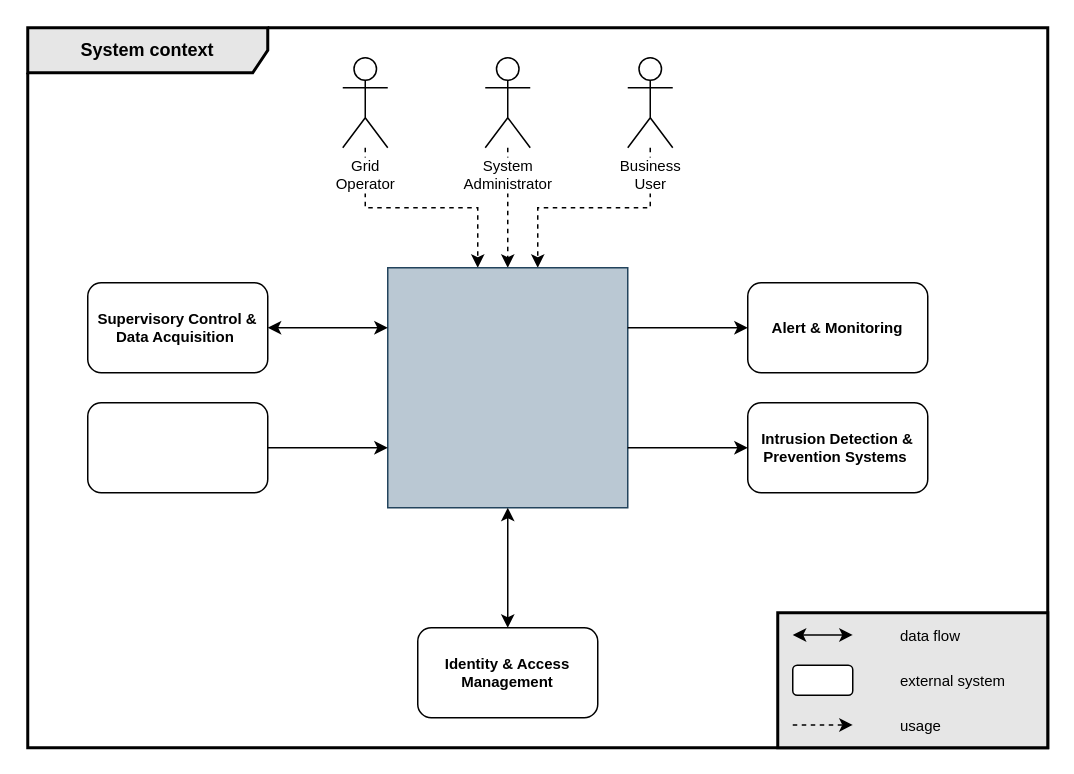
This 1074x774 diagram has some shape labels left out. The box of each missing label's shape, as (x1, y1, x2, y2) in pixels:
Advanced Metering Infrastructure: (86, 401, 268, 493)
Grid Management System: (386, 266, 628, 508)
